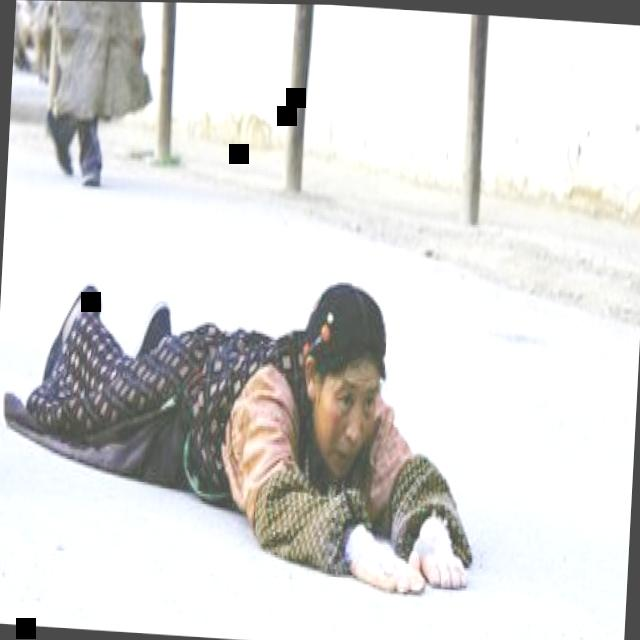Fall-Detected: (0, 227, 504, 591)
